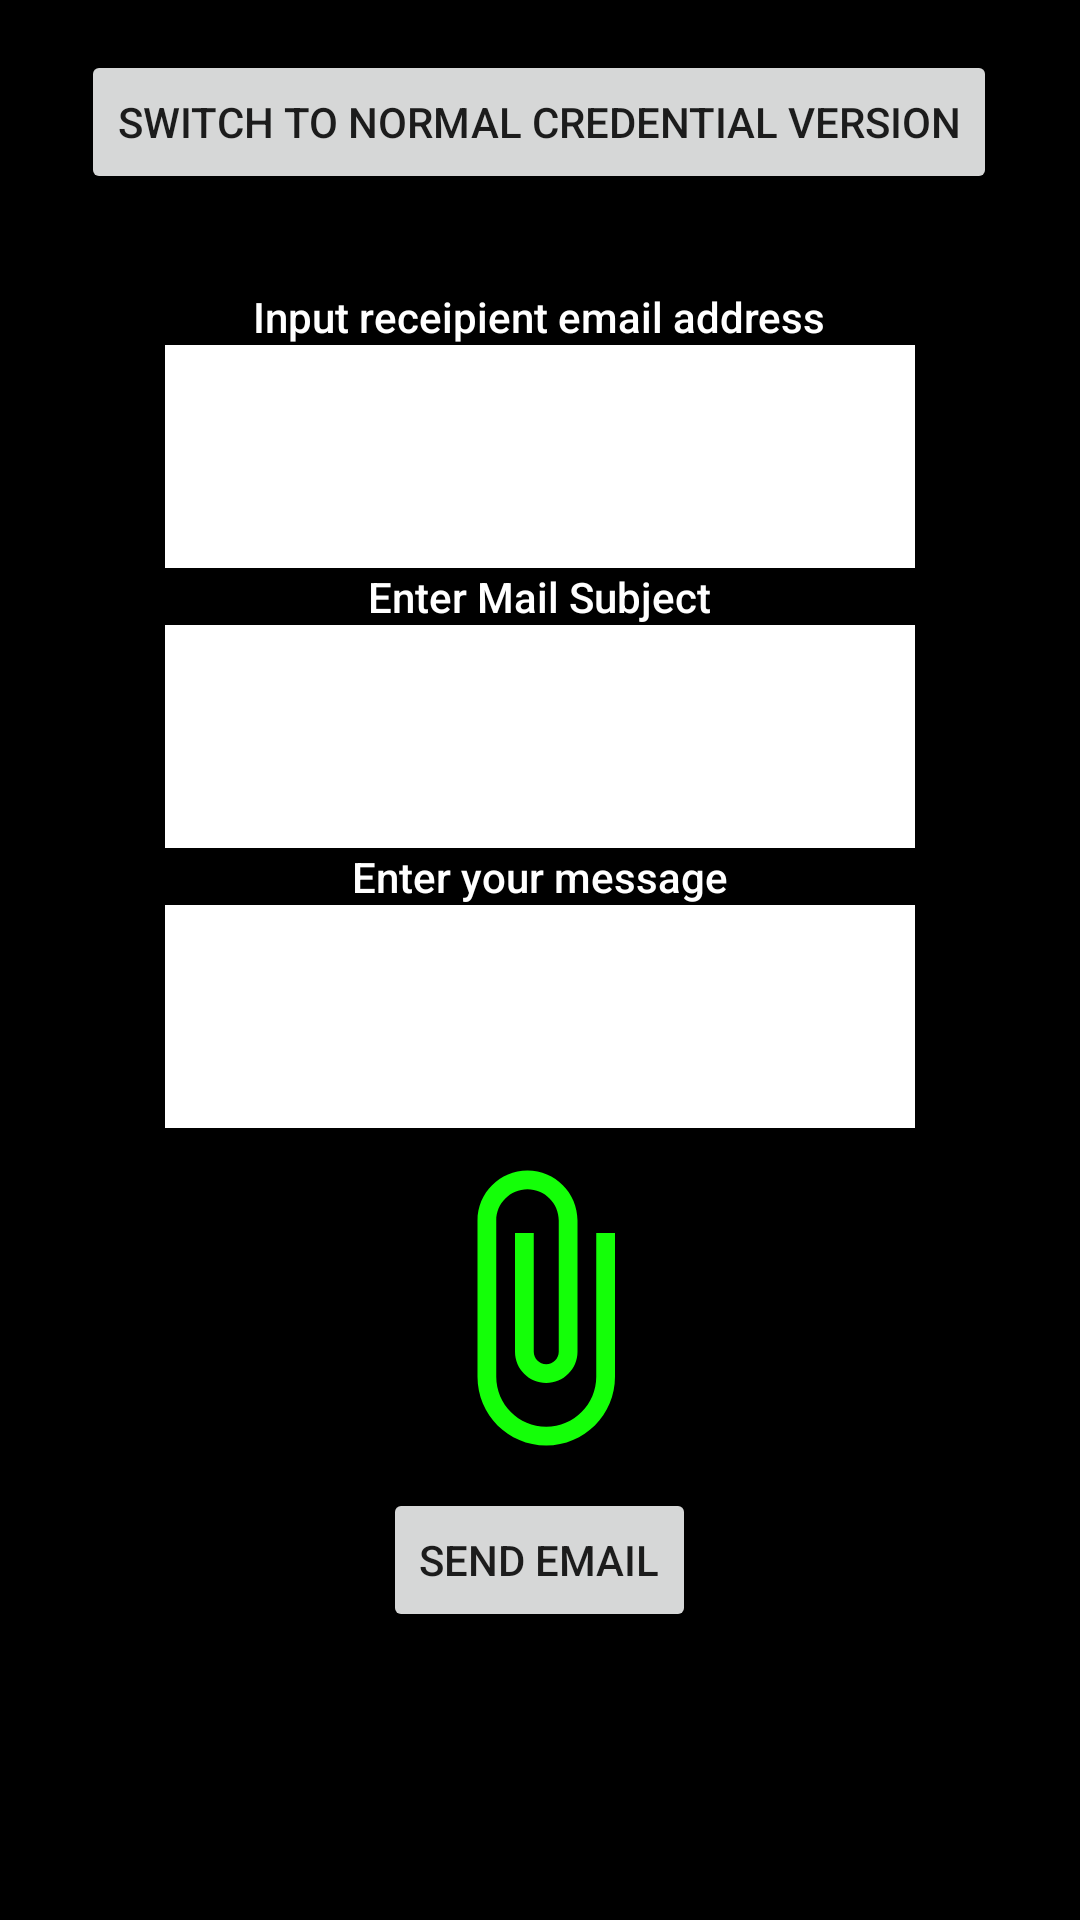

Icon bounding boxes for this 1080 x 1920 phone screenshot, format (x1, y1, x2, y2):
attach file: (477, 1170, 615, 1446)
